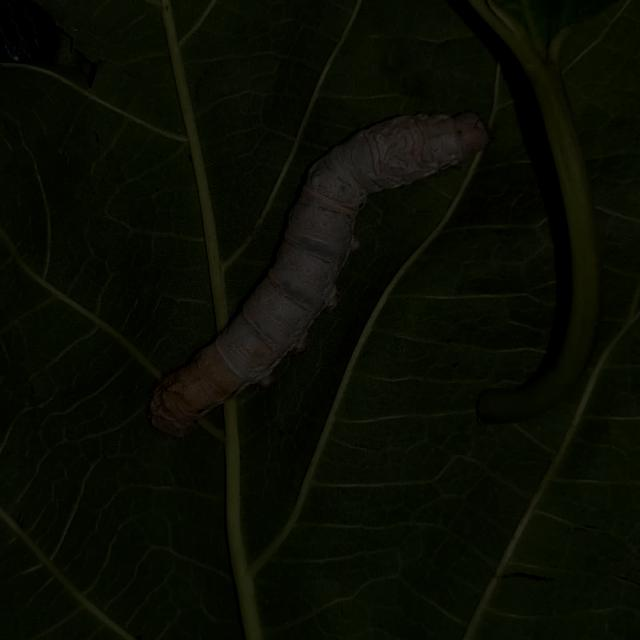Grasserie: (140, 91, 489, 435)
